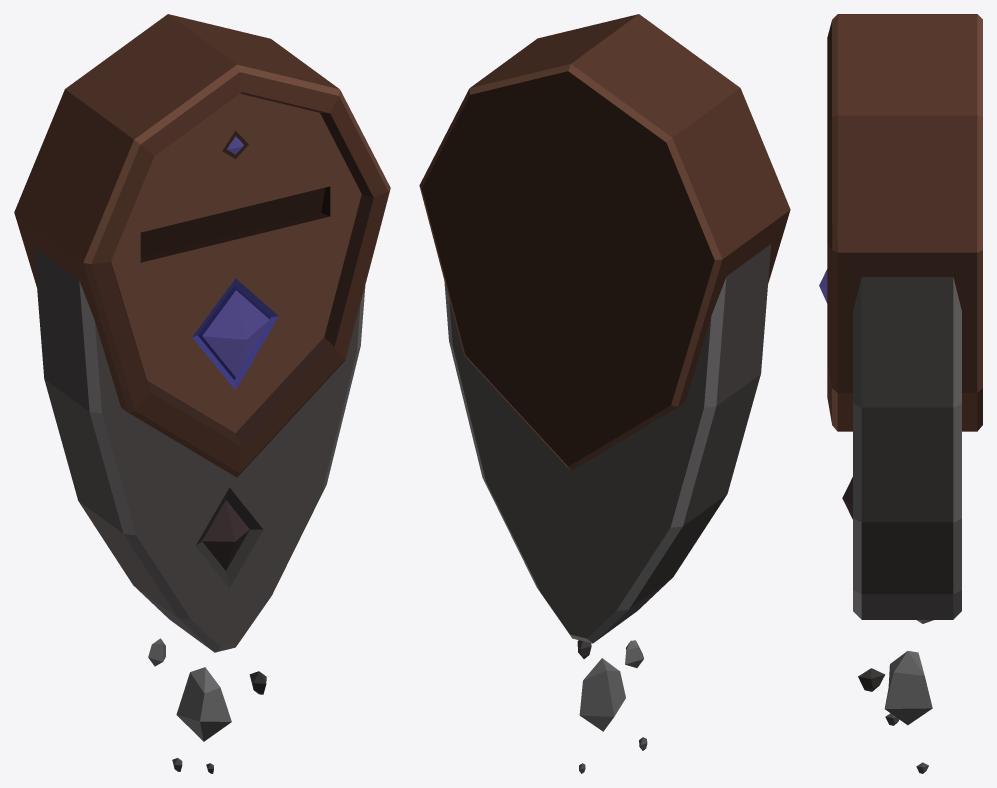
File: Mail_Post_01.glb
3 views of the same model, side by side, from view 1: azimuth 30°, elevation 25°; view 2: azimuth 150°, elevation 25°; view 3: azimuth 270°, elevation 25° (orthographic). The views are drawn at different scales.
Parts seen in each view (by area): view 1: MailPost_01; view 2: MailPost_01; view 3: MailPost_01.
Part boxes in pixels (x1=…): MailPost_01: x1=14, y1=14, x2=390, y2=773; MailPost_01: x1=419, y1=14, x2=790, y2=773; MailPost_01: x1=819, y1=14, x2=982, y2=773.
Size of what is drawn, in the model's own units: 0.5189 by 1.2 by 0.237.
Materials: 2 (2 with a texture image).
